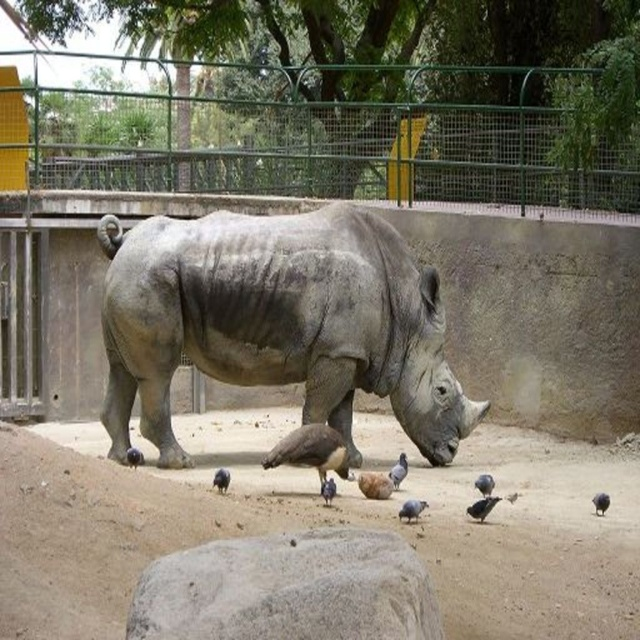Rhinoceros: (95, 192, 500, 478)
